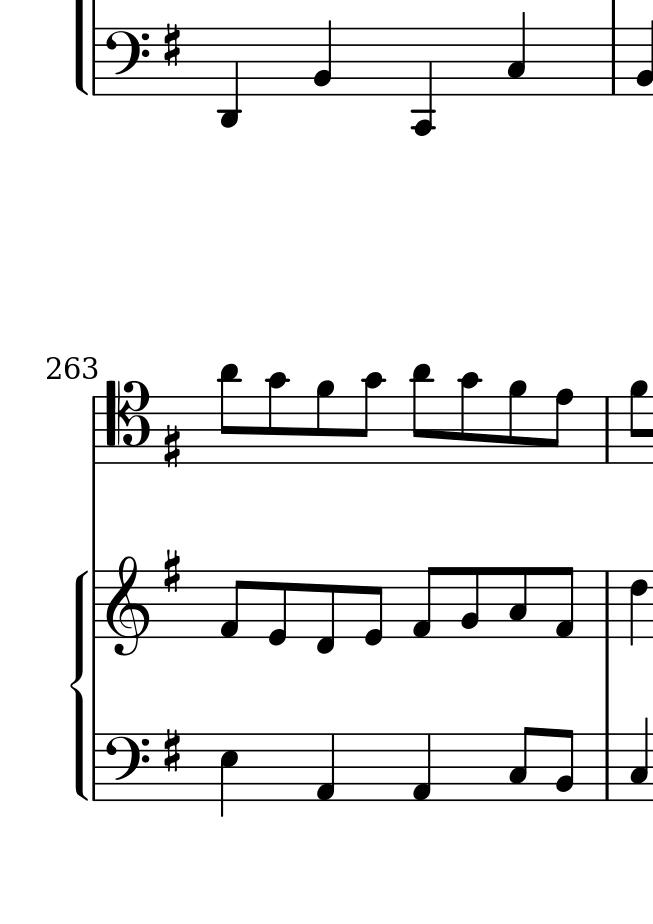2: (44, 356, 63, 380)
3: (79, 356, 100, 382)
4_-3: (216, 25, 243, 129)
4_-4: (410, 24, 436, 137)
4_1: (410, 732, 433, 802), (315, 732, 337, 802)
4_2: (312, 18, 334, 98)
4_3: (506, 10, 528, 97), (628, 715, 650, 801)
4_5: (218, 731, 239, 818)
4_6: (627, 569, 650, 647)
6: (62, 355, 83, 380)
8_-1: (313, 567, 337, 655)
8_0: (362, 568, 386, 648), (266, 568, 290, 647)
8_1: (410, 564, 439, 641), (219, 569, 248, 641), (553, 565, 575, 641)
8_10: (355, 371, 385, 466), (265, 371, 289, 465), (458, 371, 481, 466)
8_11: (218, 360, 242, 465), (410, 362, 433, 466)
8_2: (459, 565, 482, 640), (556, 728, 578, 803)
8_3: (508, 725, 535, 803), (507, 565, 529, 640)
8_8: (545, 387, 574, 466)
8_9: (627, 379, 650, 465), (507, 379, 528, 466), (314, 380, 335, 466)
Brace: (68, 566, 89, 801)
Fclef: (102, 732, 150, 804), (103, 26, 150, 99)
Gclef: (105, 554, 150, 658)
Sharp: (161, 22, 183, 70), (161, 727, 182, 776), (162, 547, 182, 593), (162, 424, 181, 470)
Single_barline: (598, 396, 615, 462), (606, 29, 623, 94), (600, 571, 616, 638), (599, 733, 615, 800), (88, 570, 103, 639), (88, 732, 102, 802), (87, 396, 101, 460), (89, 31, 102, 94)
Tensor_Cclef: (104, 377, 150, 466)
